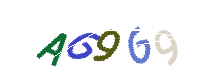9: (67, 0, 147, 80), (97, 0, 177, 80)
A: (14, 0, 94, 80)
G: (61, 0, 141, 80), (68, 0, 148, 80)
